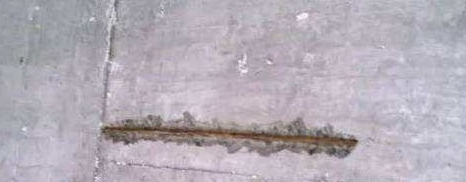Exposed reinforcement: (103, 125, 358, 147)
Spalling: (99, 111, 359, 159)
